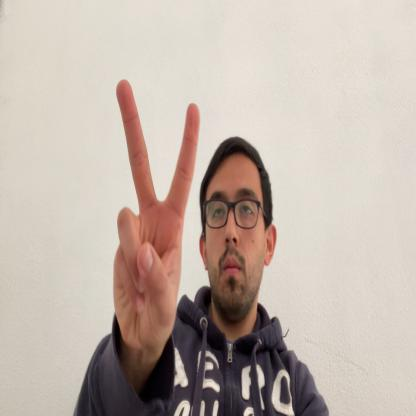V: (112, 78, 200, 350)
